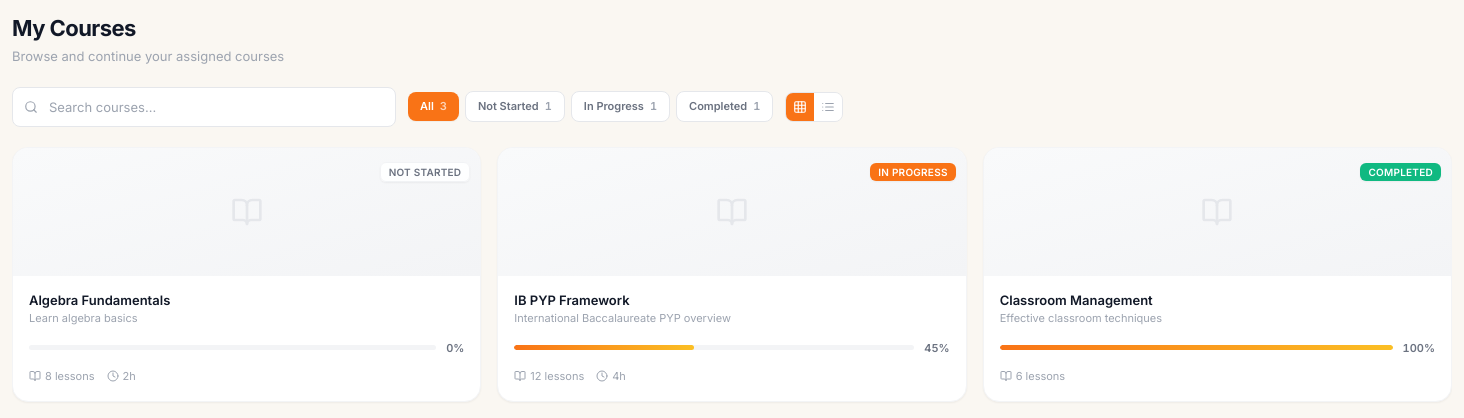
Test: MyCoursesPage › search › searching "Algebra" shows only "Algebra Fundamentals"
Expected: the heading "Algebra Fundamentals" is shown, [29,292,170,308]
Step 1. Type "Algebra" into the field with placeholder "Search courses..." → (204, 106), box [12,86,396,126]
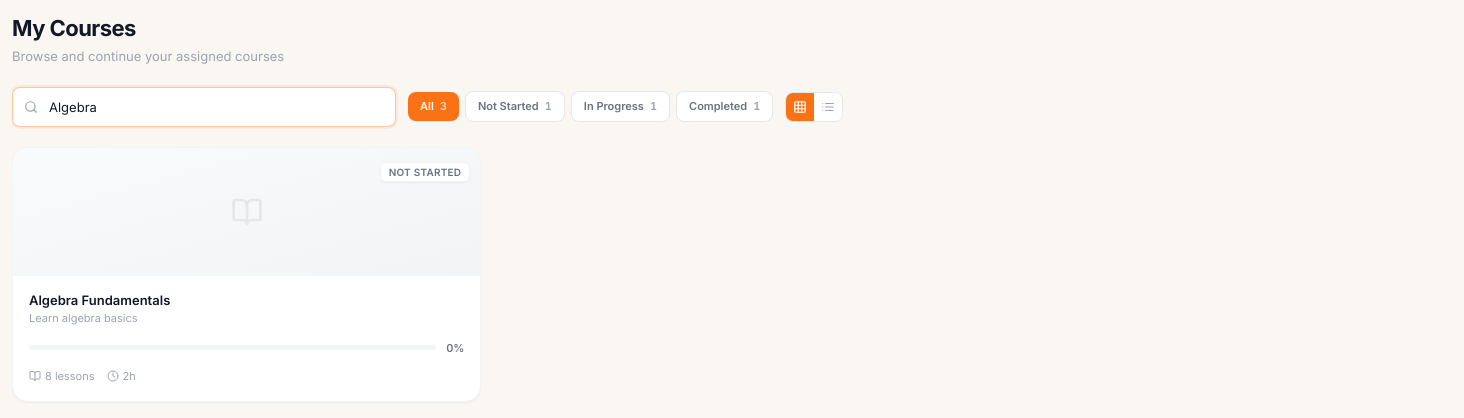
Expected: the heading "Algebra Fundamentals" is shown, [29,292,170,308]
Now the button "IB PYP Framework" is gone
Now the button "Classroom Management" is gone
